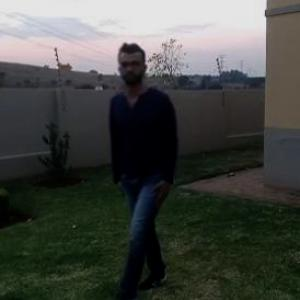follow: (105, 33, 211, 299)
